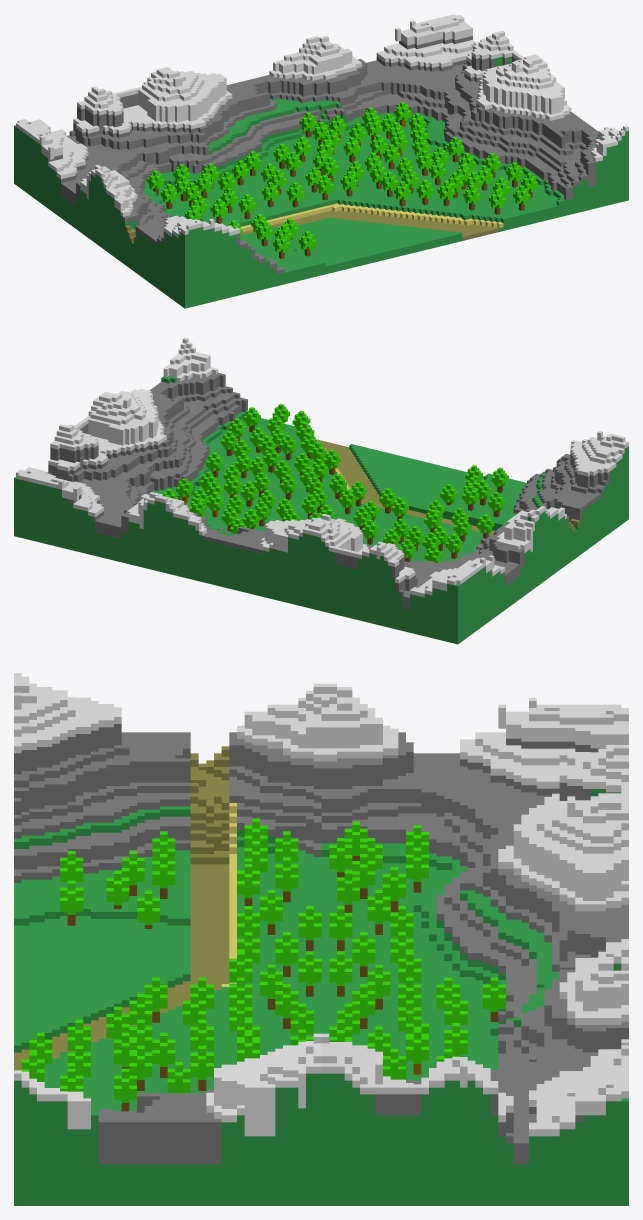
Rendered from Menu_principal.glb.
3 views of the same model, one above another, from view 1: azimuth 30°, elevation 25°; view 2: azimuth 150°, elevation 25°; view 3: azimuth 270°, elevation 25° (orthographic). The views are drawn at different scales.
Visible parts, largest first — view 1: Untitled.004, Untitled, Untitled.002, Untitled.003, Untitled.001, Untitled.005; view 2: Untitled, Untitled.001, Untitled.002, Untitled.003, Untitled.004, Untitled.005; view 3: Untitled.002, Untitled.001, Untitled.004, Untitled, Untitled.003, Untitled.005.
Boxes of the visible parts, box(x1,y1,x2,y2) form: Untitled.004: box(396, 57, 628, 236); Untitled: box(14, 68, 244, 245); Untitled.002: box(99, 172, 332, 308); Untitled.003: box(164, 38, 388, 197); Untitled.001: box(310, 14, 542, 161); Untitled.005: box(253, 144, 480, 272); Untitled: box(310, 507, 543, 644); Untitled.001: box(14, 393, 244, 571); Untitled.002: box(407, 431, 628, 581); Untitled.003: box(162, 481, 386, 608); Untitled.004: box(103, 337, 332, 496); Untitled.005: box(253, 433, 467, 531); Untitled.002: box(14, 673, 321, 938); Untitled.001: box(321, 943, 628, 1205); Untitled.004: box(14, 1019, 321, 1205); Untitled: box(321, 683, 628, 924); Untitled.003: box(321, 799, 628, 1054); Untitled.005: box(14, 890, 321, 1068).
Bounding box in the file's own units: 12 × 2.1 × 8.
Materials: 9 (2 with a texture image).
